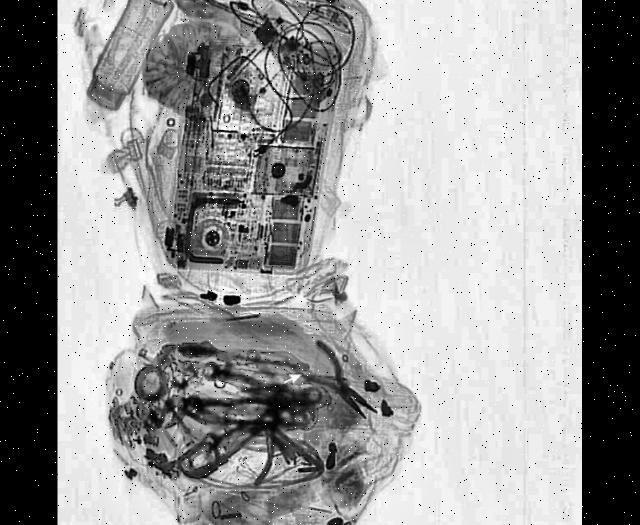Pliers: (295, 330, 386, 438)
